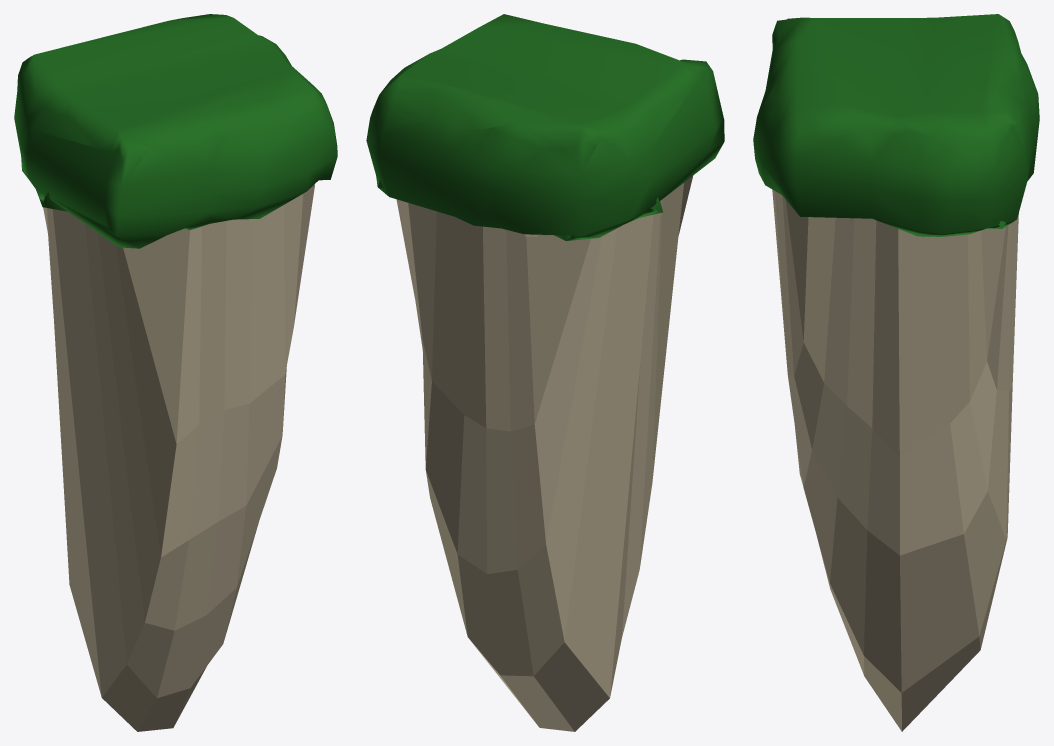
Rendered from SM_Cliff3.fbx.
3 views of the same model, side by side, from view 1: azimuth 30°, elevation 25°; view 2: azimuth 150°, elevation 25°; view 3: azimuth 270°, elevation 25° (orthographic).
Parts seen in each view (by area): view 1: SM_Cliffs4; view 2: SM_Cliffs4; view 3: SM_Cliffs4.
Boxes of the visible parts, <box> form: SM_Cliffs4: <box>14,14,337,731</box>; SM_Cliffs4: <box>366,14,724,731</box>; SM_Cliffs4: <box>753,14,1039,731</box>.
Bounding box in the file's own units: 4.25 × 10.02 × 3.85.
